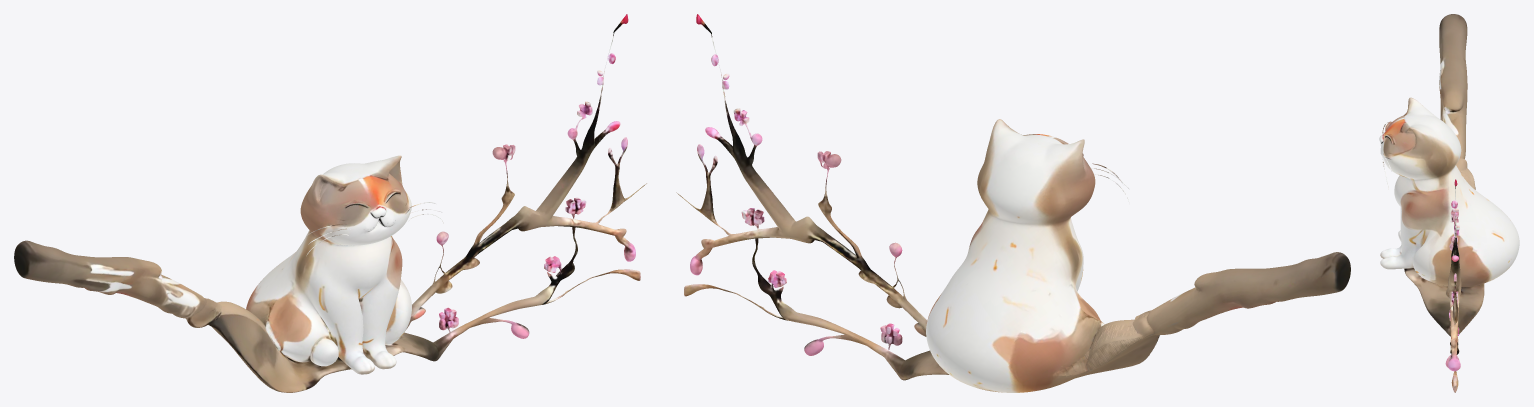
Rendered from CAT_BRANCH-optimized.glb.
The picture shows the model from 3 angles, left to right: view 1: azimuth 30°, elevation 25°; view 2: azimuth 150°, elevation 25°; view 3: azimuth 270°, elevation 25°; orthographic projection. The views are drawn at different scales.
Bounding box in the file's own units: 1.9 × 0.8624 × 0.4735.
Materials: 1 (1 with a texture image).
